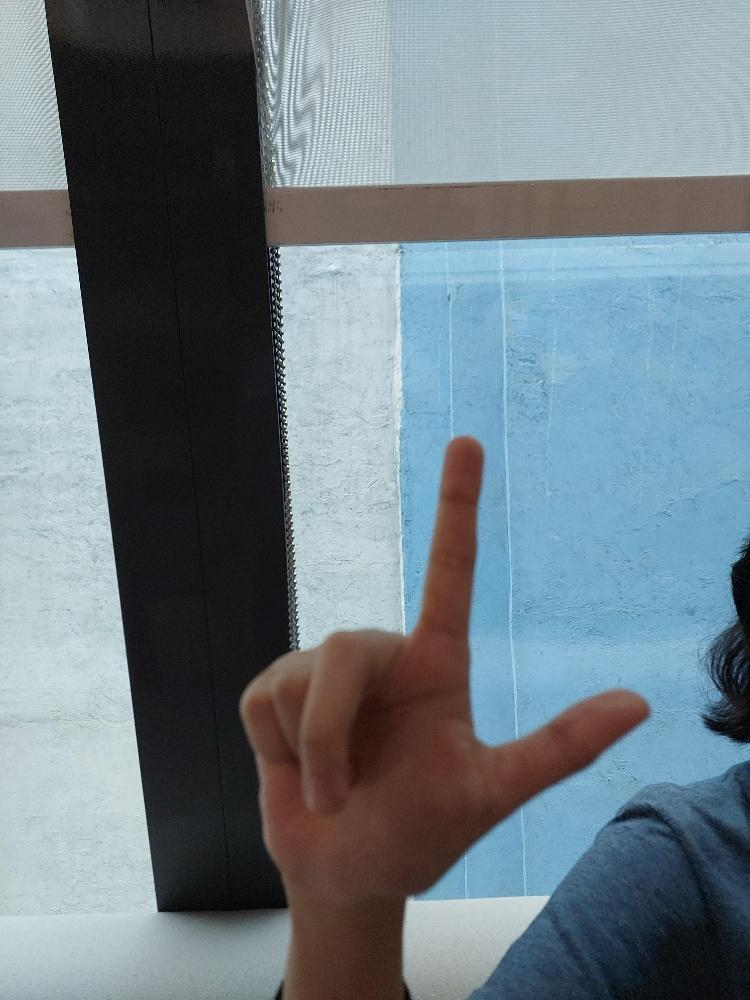l: (241, 434, 649, 892)
